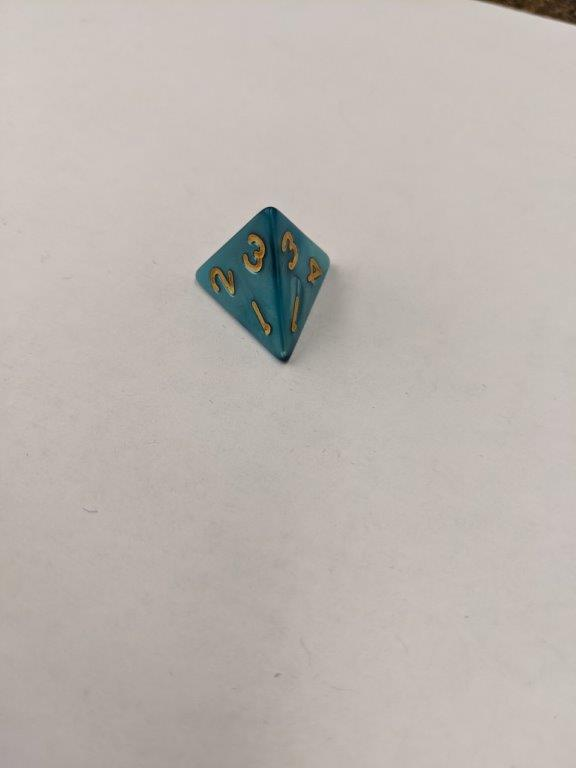d4-3: (192, 205, 331, 364)
